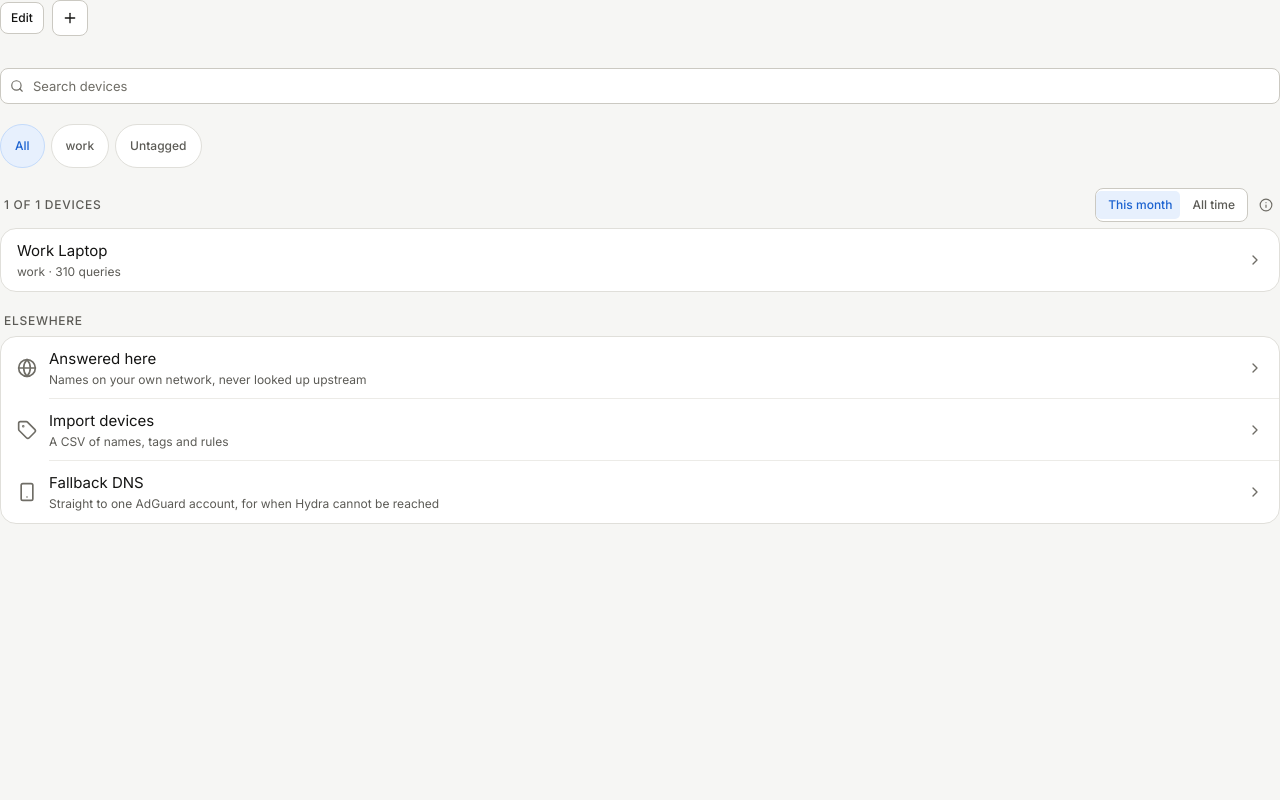
Test: Devices on a phone › adds a device through a sheet rather than an inline form
Click the button named "Add device": (70, 18) [52, 0, 88, 36]
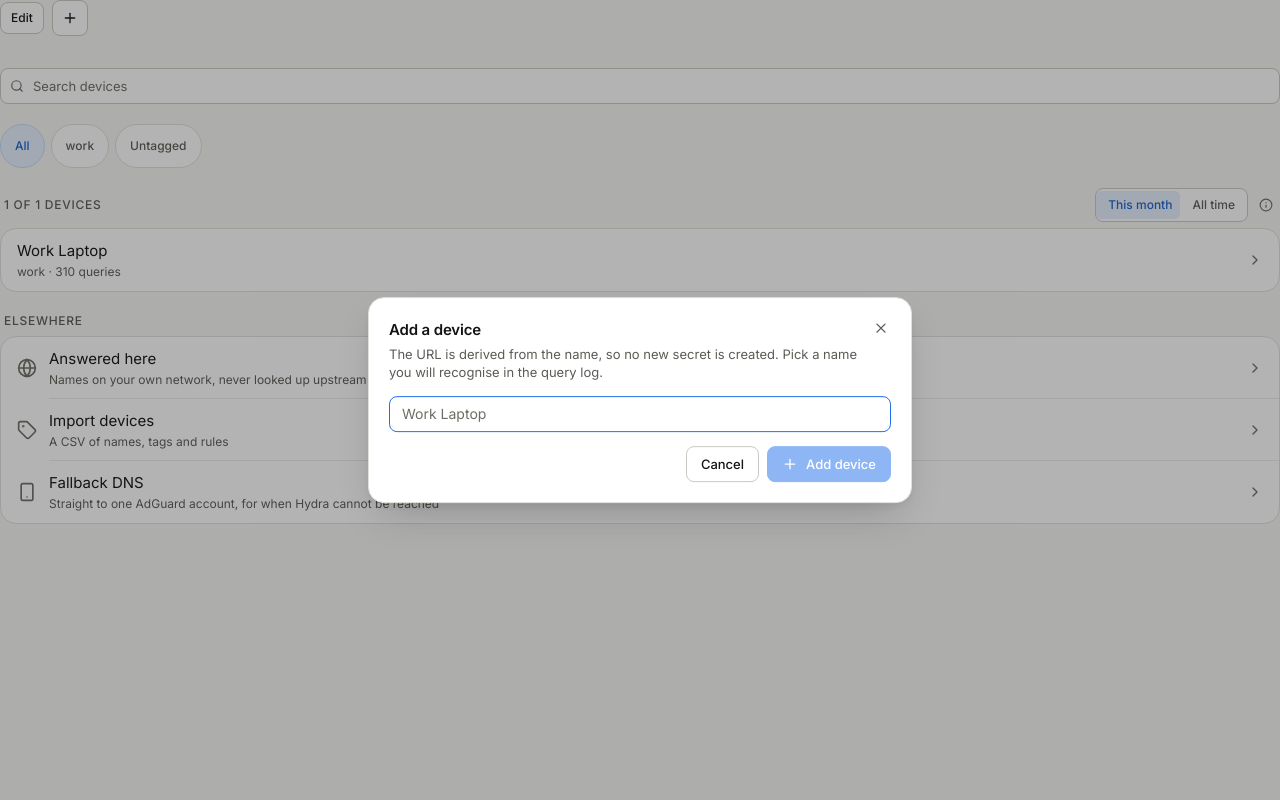
In the field named "Device name": (640, 414) [389, 396, 891, 432], type "Pixel 9"
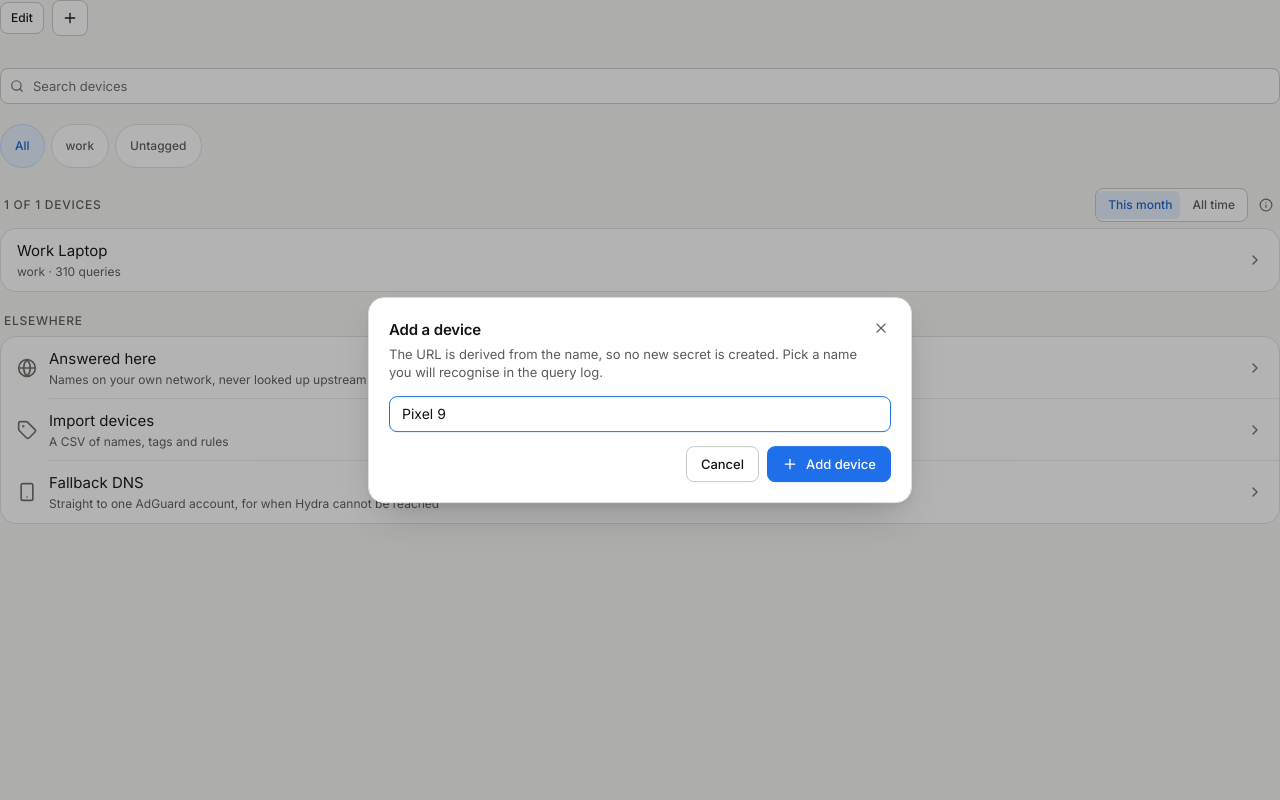
Click the button "Add device": (829, 464) [767, 446, 891, 482]
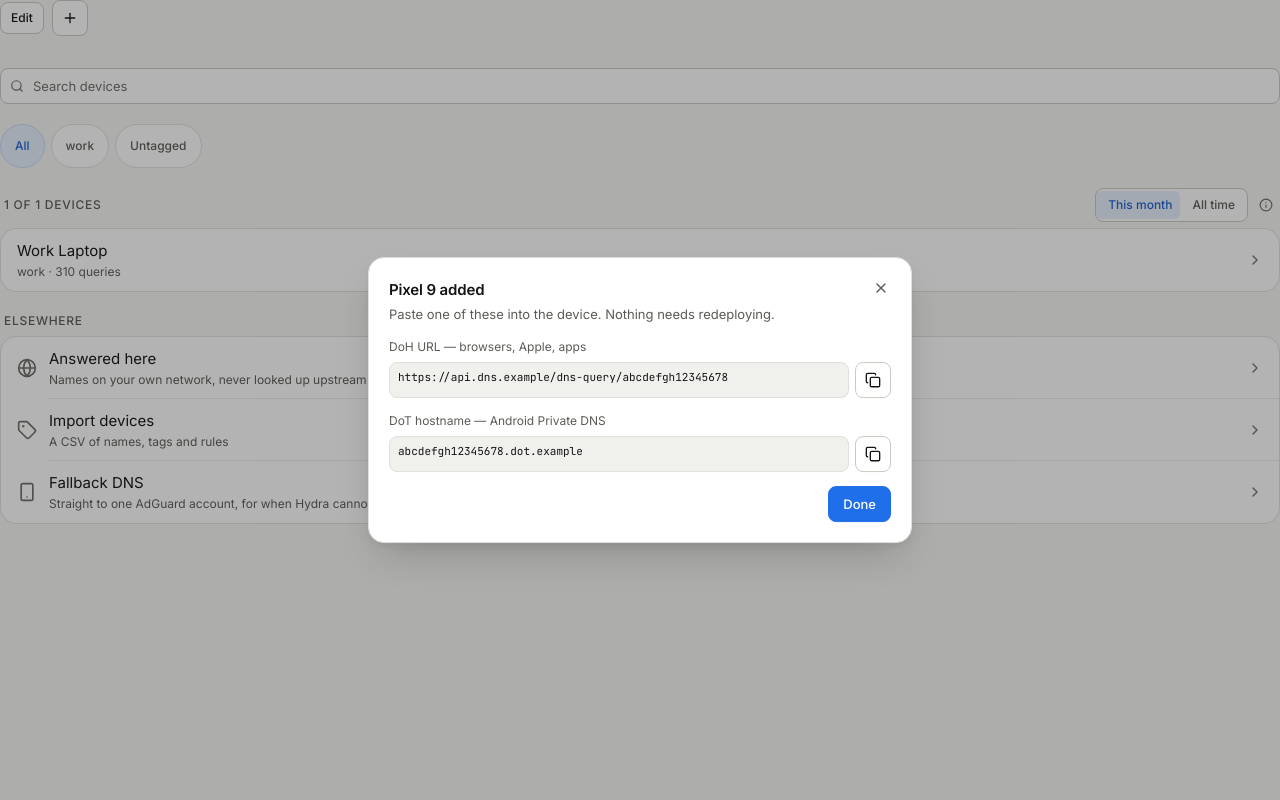
Expected: the heading "Pixel 9 added" is shown, [389, 280, 484, 299]
